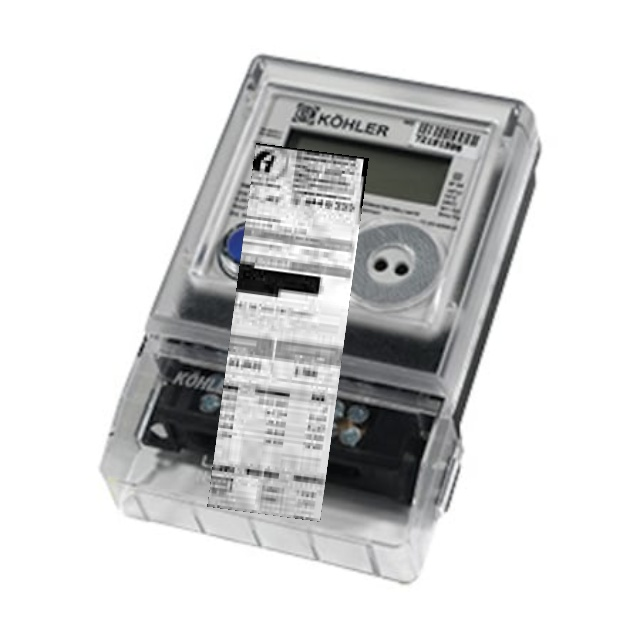electricity-bill: (207, 143, 369, 521)
